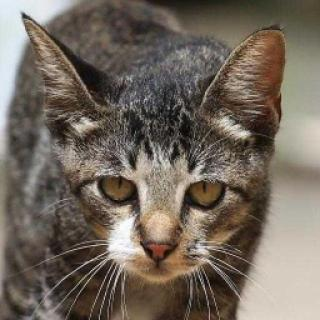cat: (24, 13, 290, 298)
nose: (137, 222, 182, 268)
